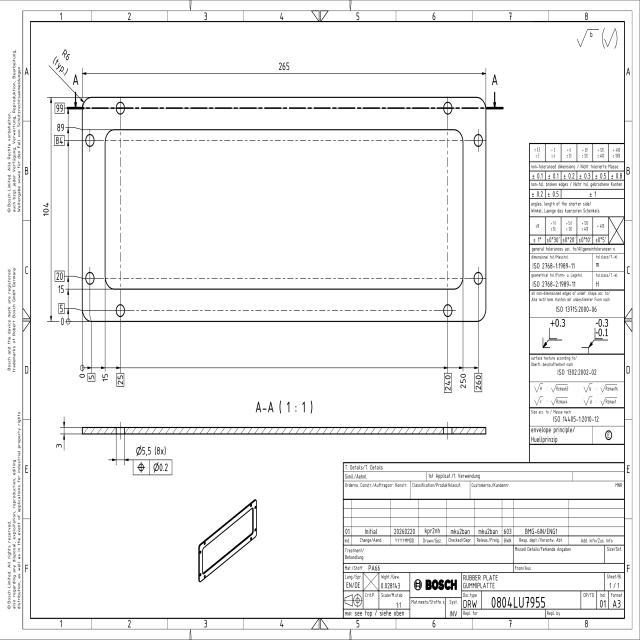dimension: (51, 46, 73, 79), (134, 444, 168, 457), (276, 60, 290, 73), (41, 200, 50, 218), (459, 372, 467, 389), (55, 122, 66, 133), (101, 372, 109, 383), (58, 285, 66, 294), (55, 442, 62, 449)
